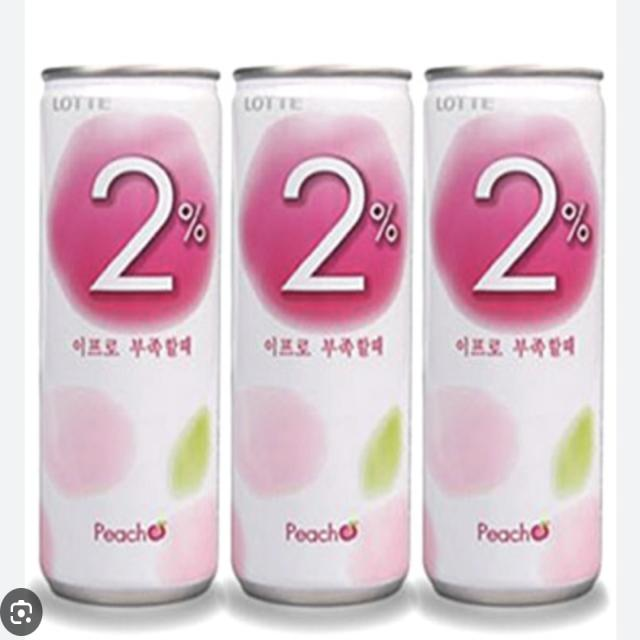recyclable: (410, 42, 616, 612), (28, 41, 230, 610), (225, 44, 418, 608)
